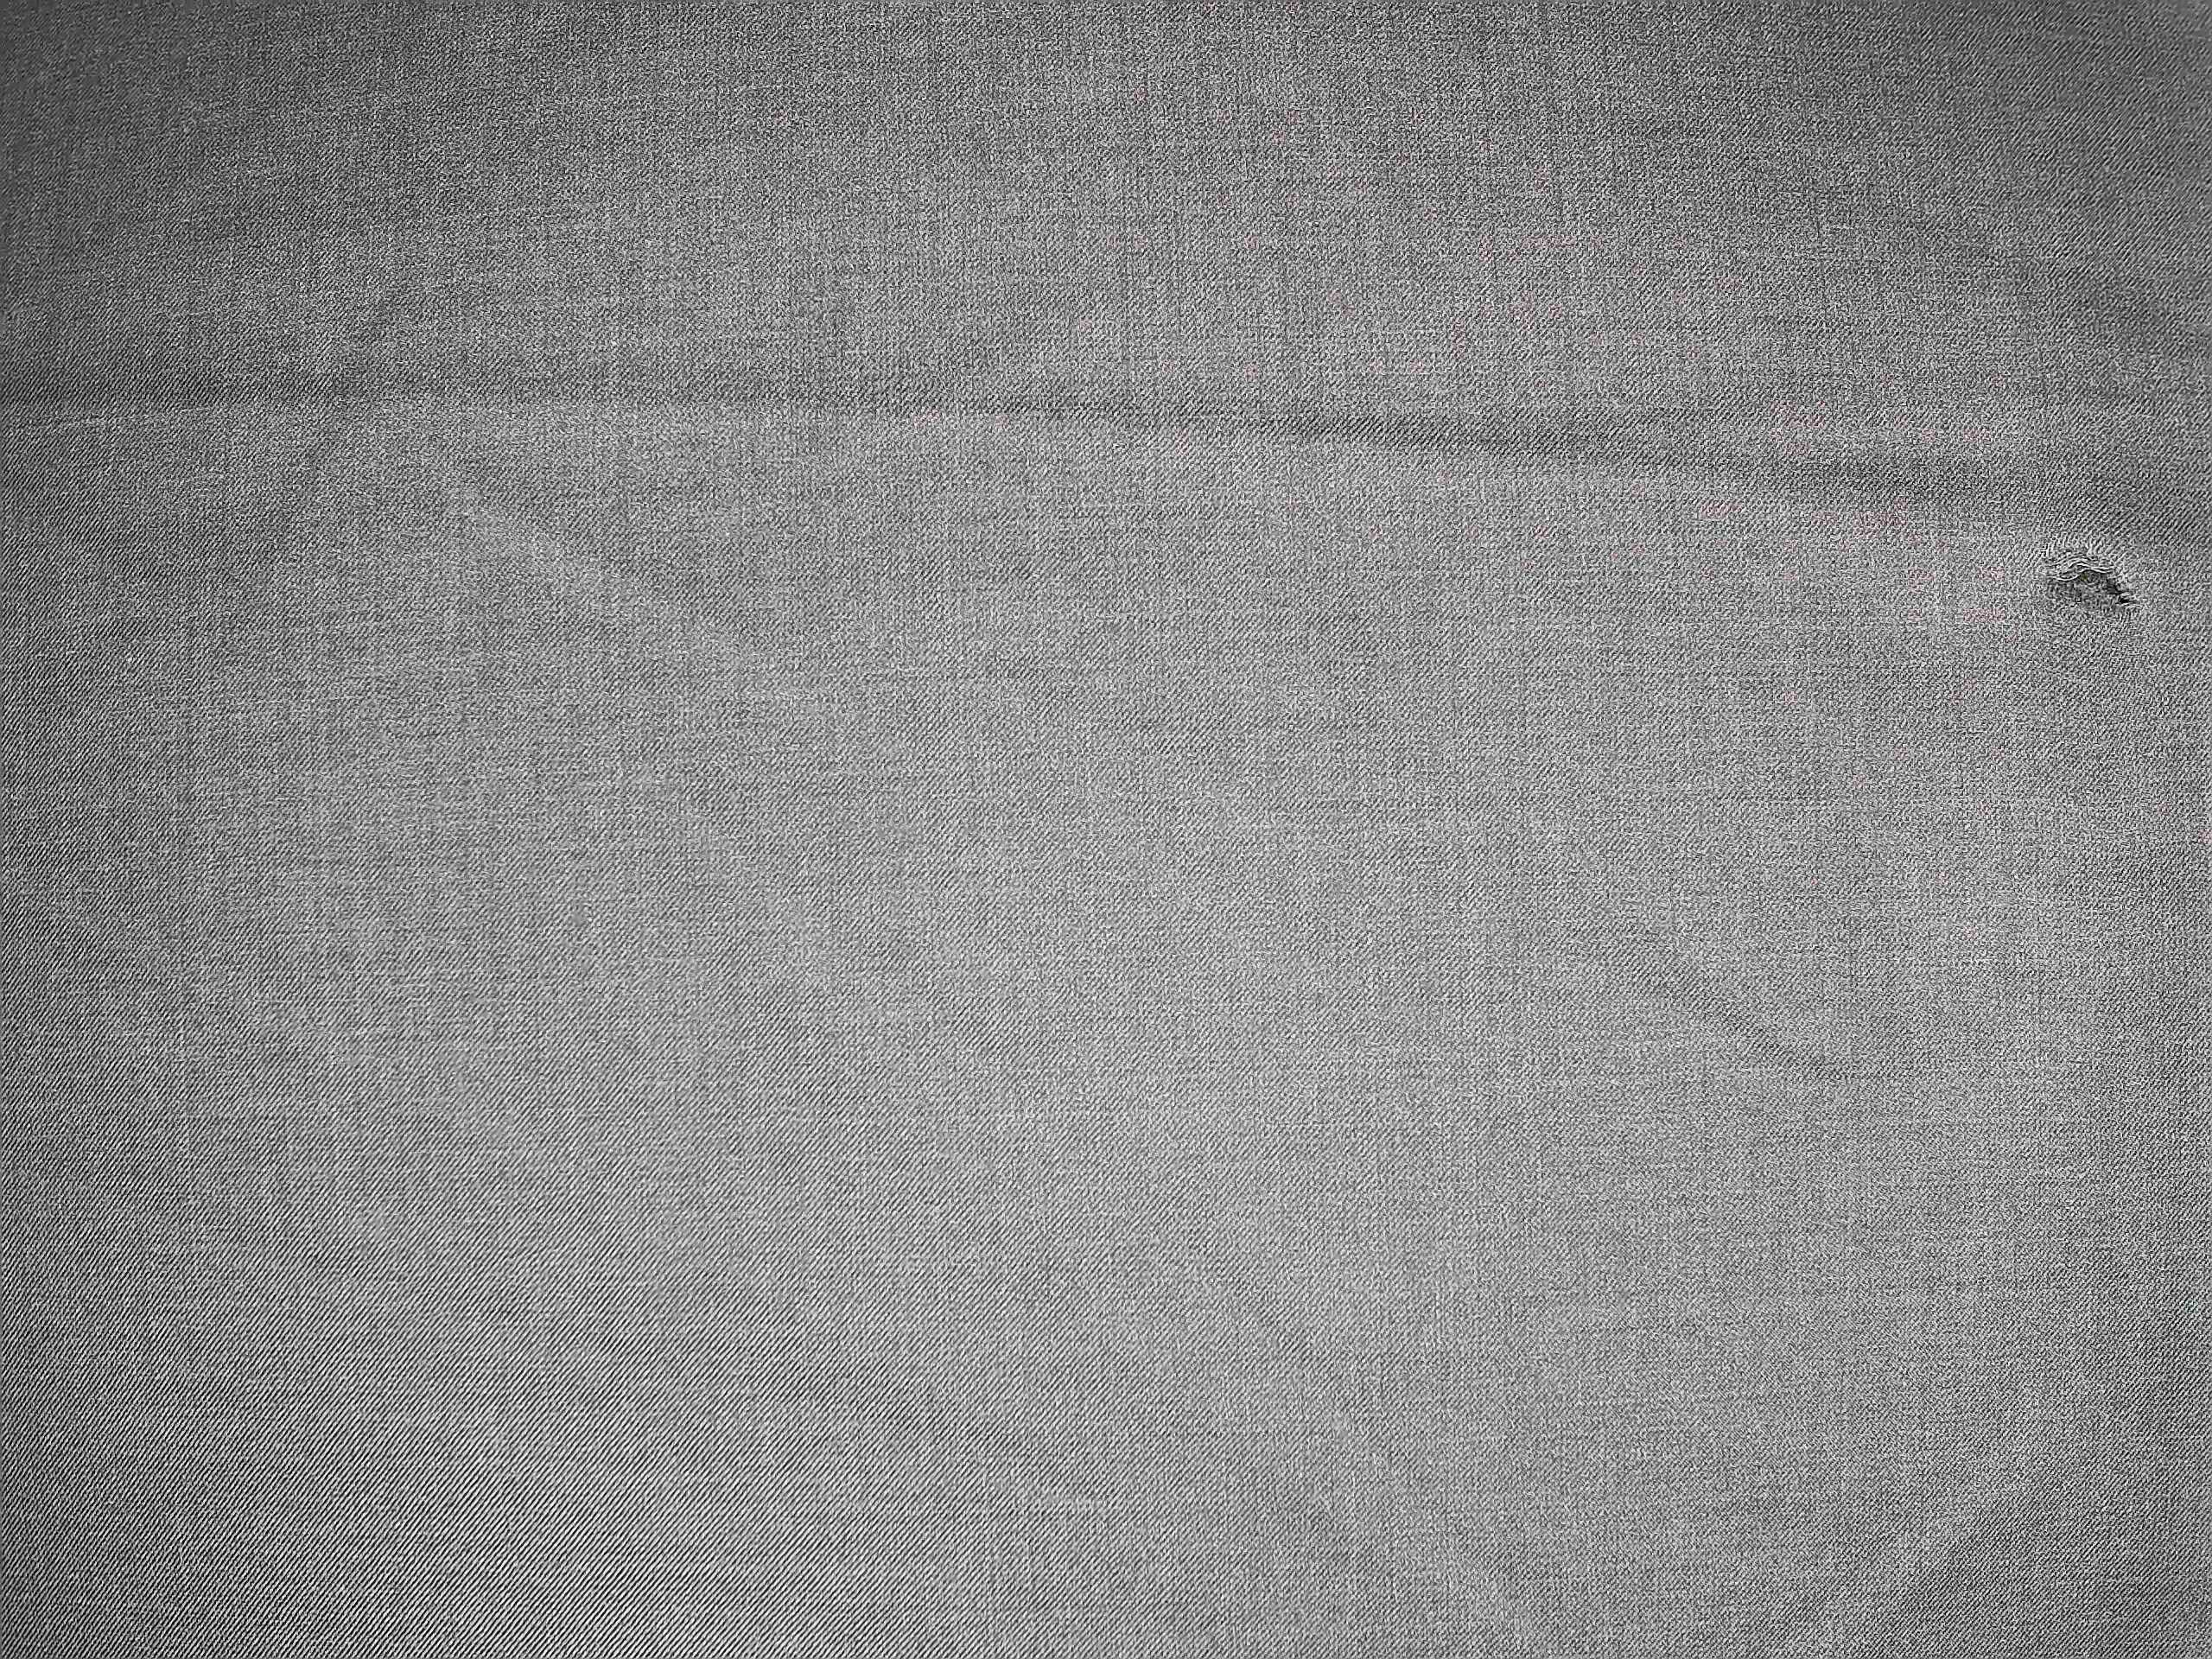rubbing-hole: (2033, 530, 2151, 633)
